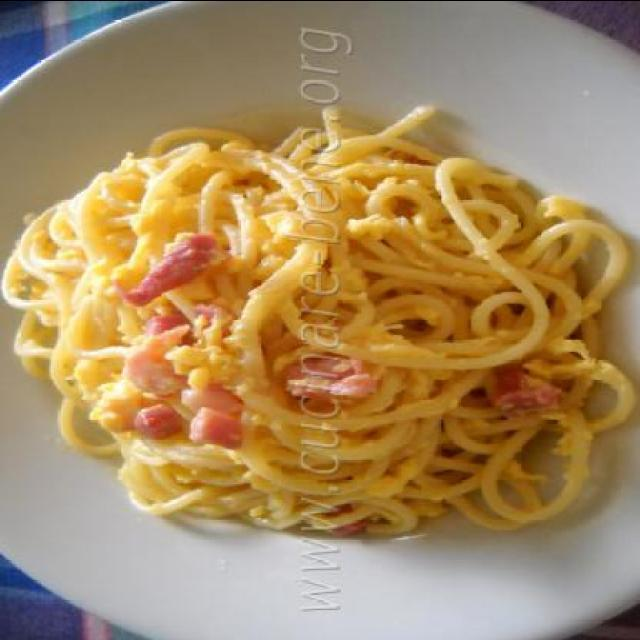Pasta with carbonara sauce: (16, 100, 598, 557)
